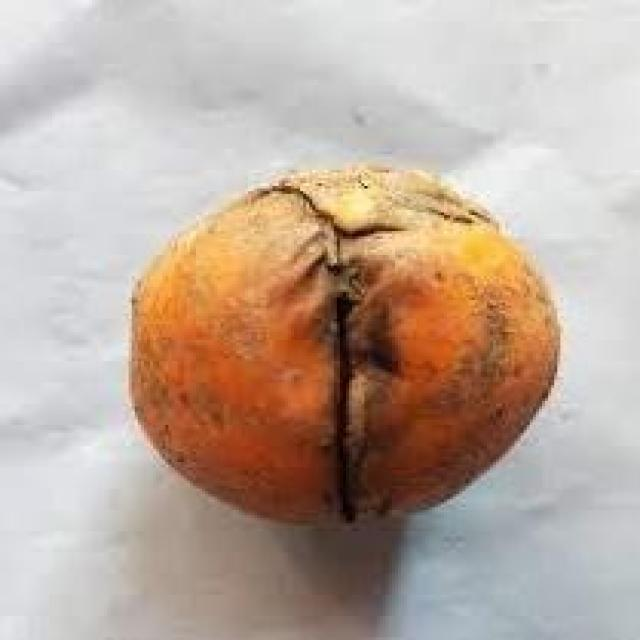damaged: (126, 165, 563, 528)
